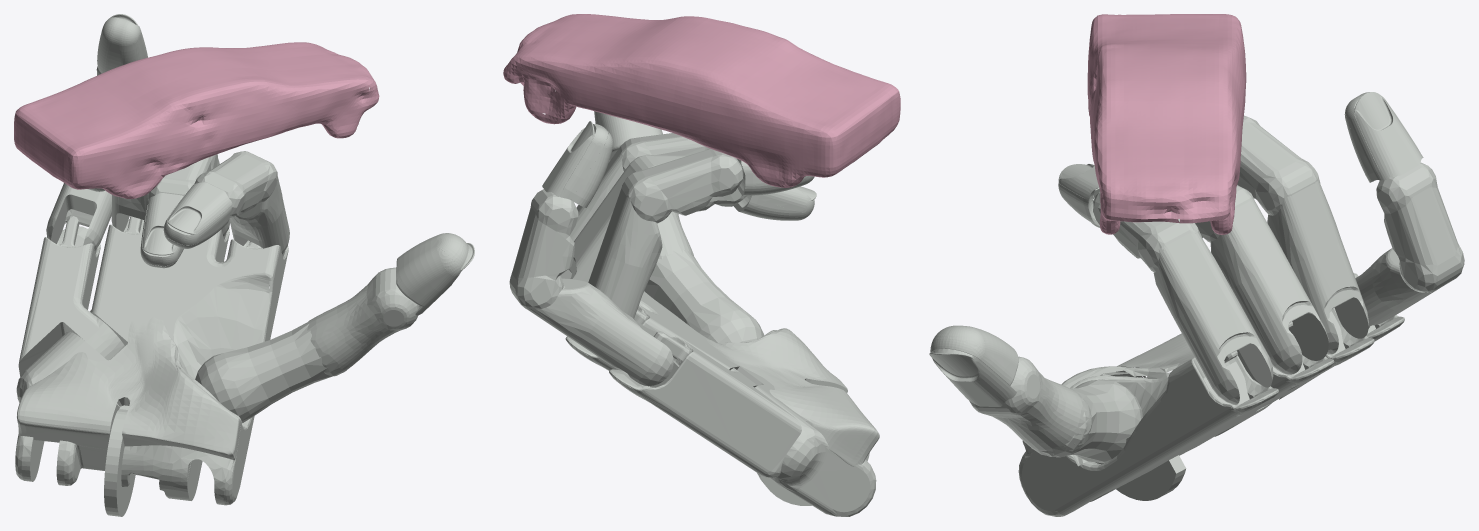
The picture shows the model from 3 angles, left to right: view 1: azimuth 30°, elevation 25°; view 2: azimuth 150°, elevation 25°; view 3: azimuth 270°, elevation 25°; orthographic projection. The views are drawn at different scales.
Visible parts, largest first — view 1: hand, world; view 2: hand, world; view 3: hand, world.
Part boxes in pixels (bbox=[...]): hand: bbox=[15, 14, 474, 516]; world: bbox=[14, 42, 379, 198]; hand: bbox=[509, 111, 879, 516]; world: bbox=[503, 14, 900, 187]; hand: bbox=[929, 92, 1464, 516]; world: bbox=[1087, 14, 1246, 234].
Bounding box in the file's own units: 0.1457 × 0.161 × 0.1635.
